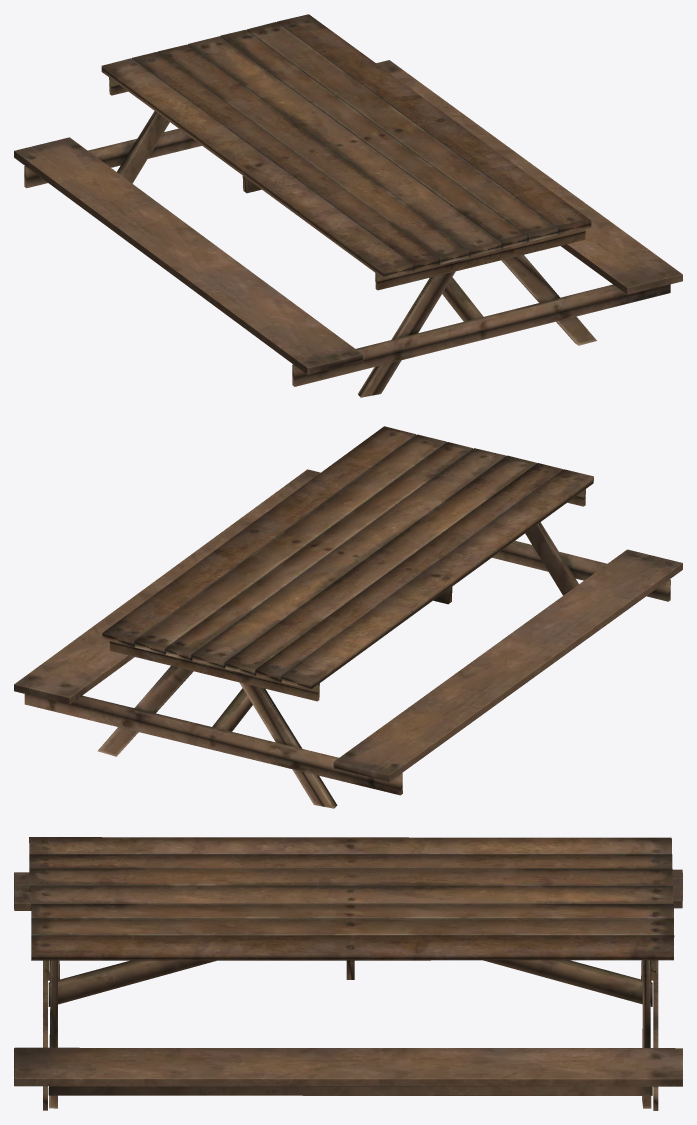
Rendered from wooden_picnic_table.glb.
The picture shows the model from 3 angles, top to bottom: view 1: azimuth 30°, elevation 25°; view 2: azimuth 150°, elevation 25°; view 3: azimuth 270°, elevation 25°; orthographic projection. The views are drawn at different scales.
Visible parts, largest first — view 1: wooden_picnic_table; view 2: wooden_picnic_table; view 3: wooden_picnic_table.
Part boxes in pixels (x1,y1,x2,y2): wooden_picnic_table: [14, 14, 682, 397]; wooden_picnic_table: [14, 426, 682, 808]; wooden_picnic_table: [14, 837, 682, 1110].
Size of the model in its own units: 2.24 by 0.7406 by 3.02.
Materials: 2 (2 with a texture image).
